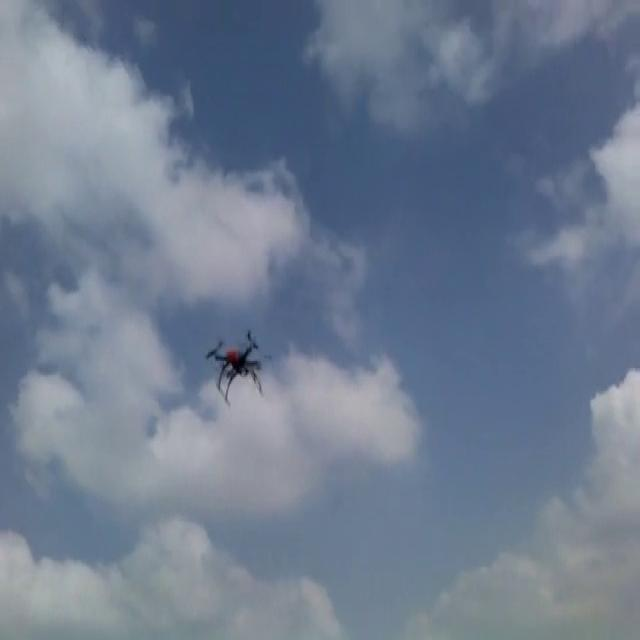drone: (202, 320, 272, 405)
